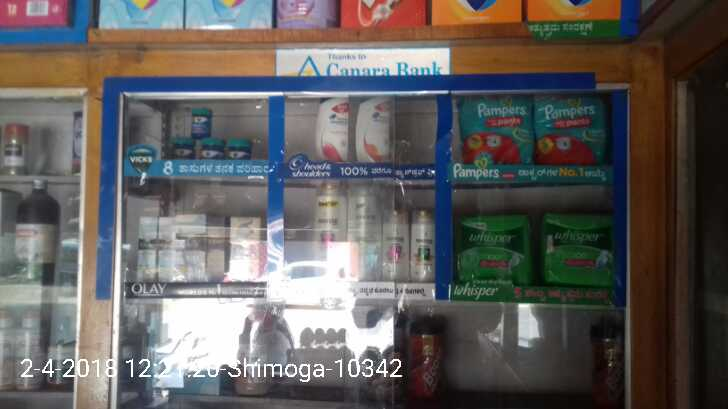vicks: (169, 107, 253, 161)
